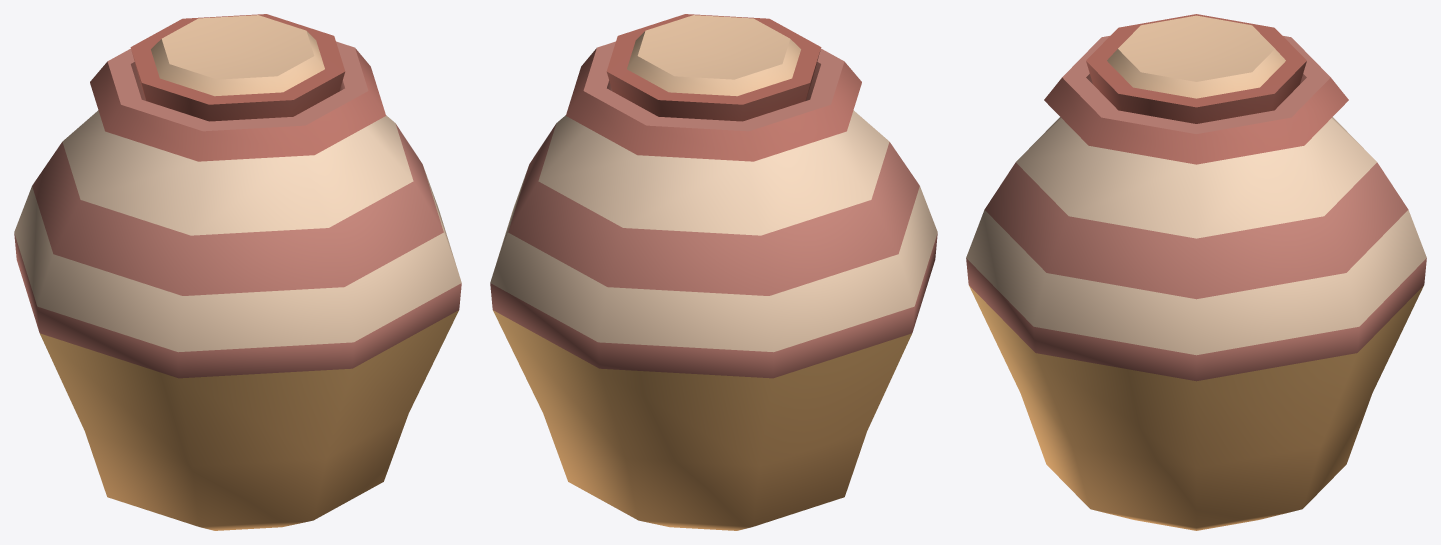
Rendered from UrnL2.fbx.
3 renders of one model, left to right at view 1: azimuth 30°, elevation 25°; view 2: azimuth 150°, elevation 25°; view 3: azimuth 270°, elevation 25°, orthographic.
Parts seen in each view (by area): view 1: UrnL2; view 2: UrnL2; view 3: UrnL2.
Part boxes in pixels (x1,y1,x2,y2): UrnL2: (14, 14, 461, 530); UrnL2: (490, 14, 937, 530); UrnL2: (966, 14, 1426, 530).
Size of the model in its own units: 91.85 by 97.87 by 91.85.
